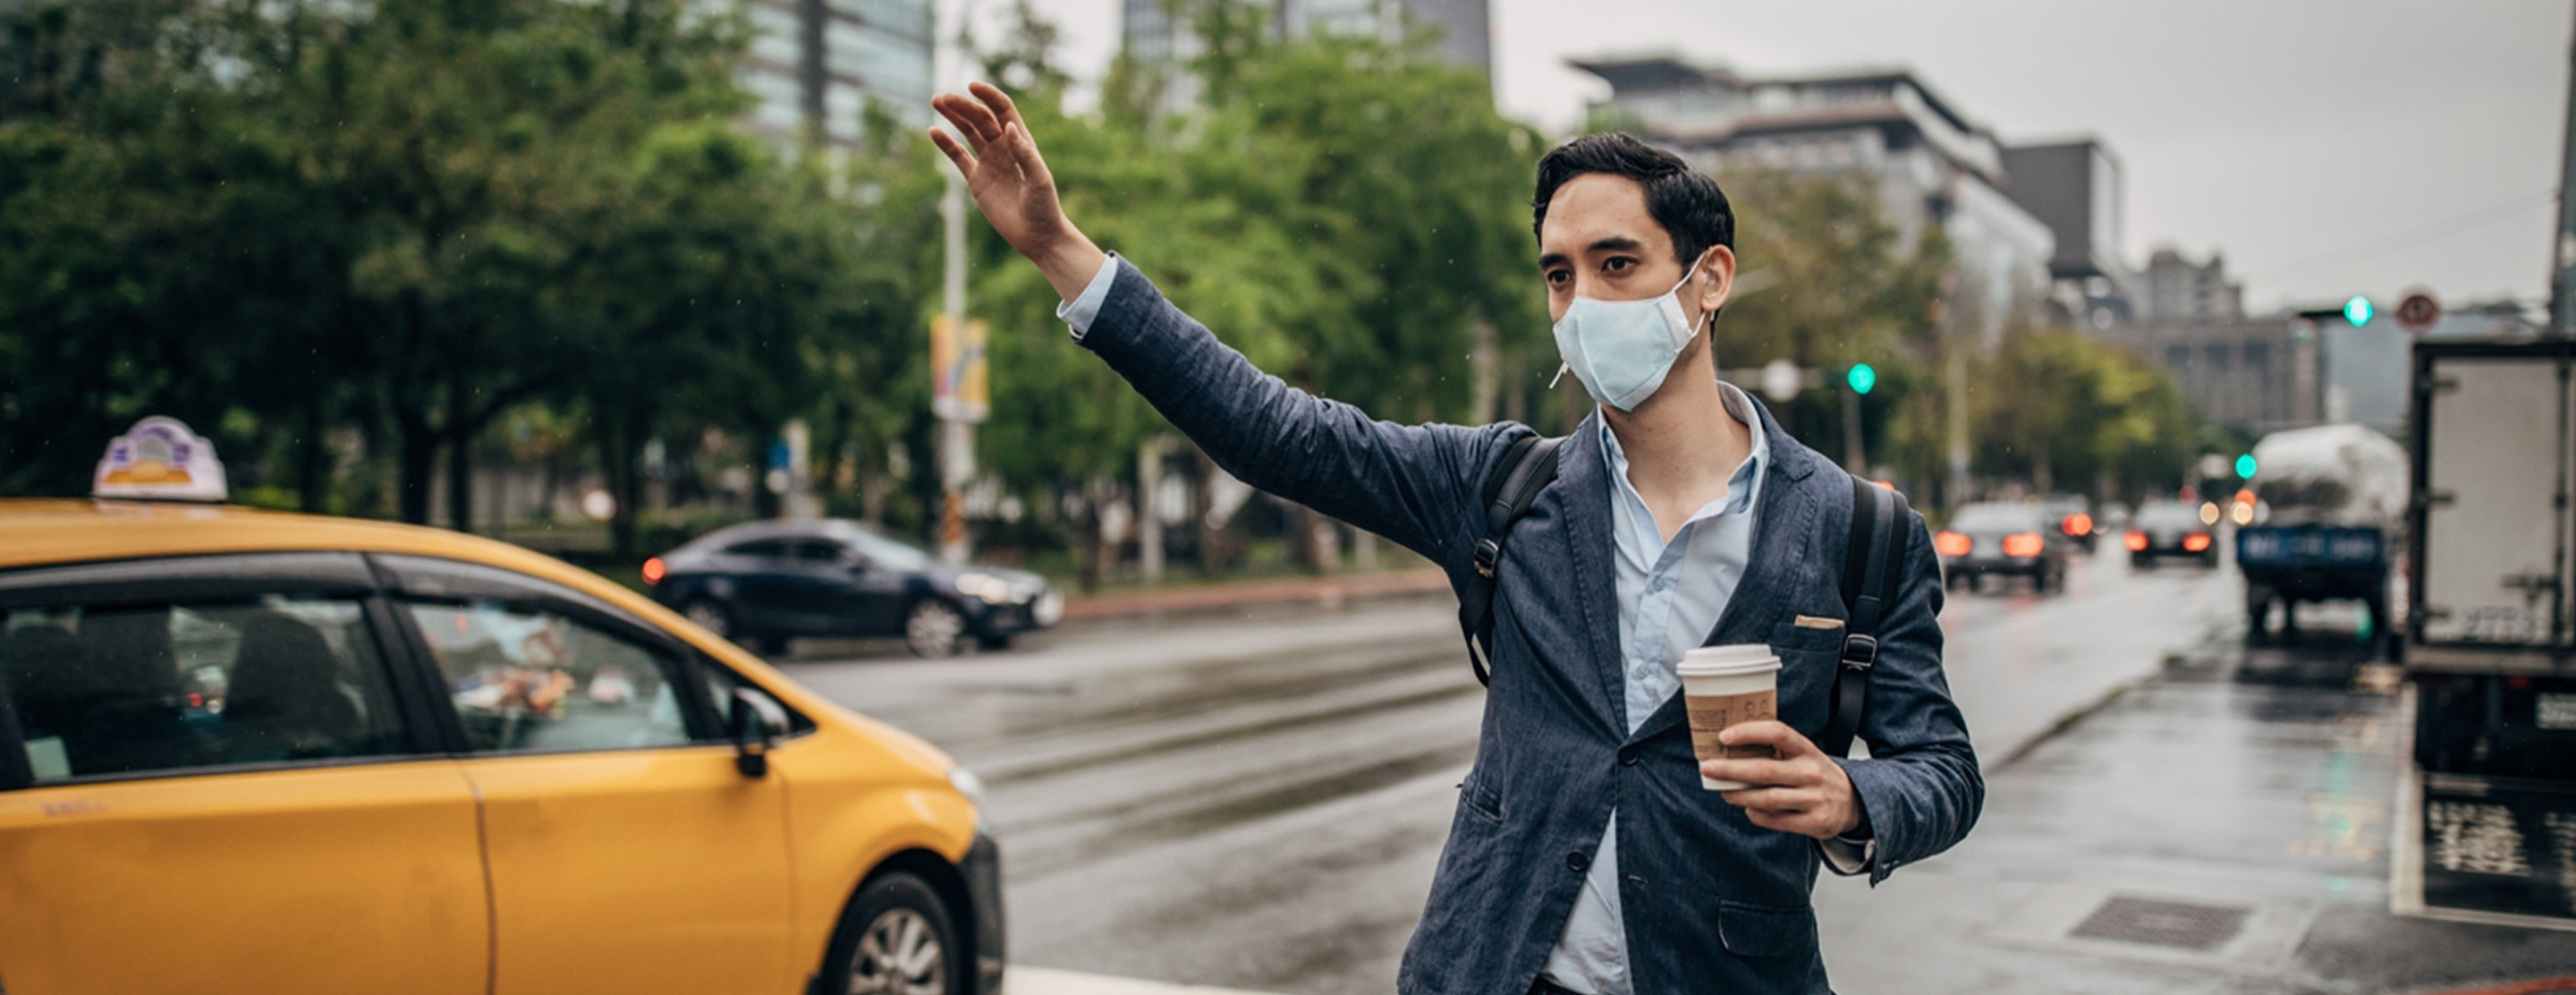face_with_mask: (1524, 124, 1750, 420)
